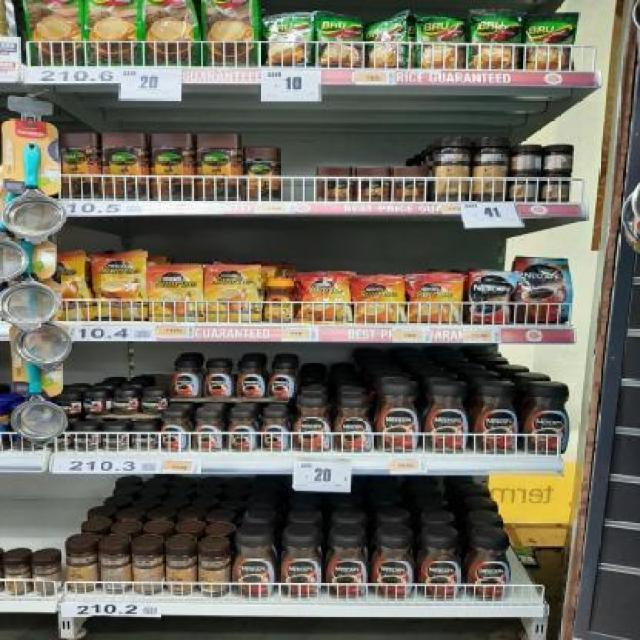Coffee: (92, 254, 146, 320), (519, 259, 570, 324), (422, 386, 468, 452), (474, 387, 518, 454), (150, 265, 202, 321), (376, 385, 420, 451), (526, 385, 568, 454), (209, 265, 260, 321), (465, 538, 512, 598), (279, 537, 322, 600), (418, 538, 462, 597), (355, 278, 408, 325), (235, 537, 276, 596), (328, 538, 368, 597), (375, 538, 414, 598), (467, 270, 512, 322), (299, 273, 346, 322), (413, 278, 462, 324), (335, 397, 374, 452), (295, 399, 331, 450), (262, 281, 294, 322), (192, 411, 223, 452), (227, 411, 258, 451), (172, 359, 200, 398), (262, 411, 290, 450), (159, 412, 186, 452), (205, 360, 232, 398), (237, 363, 264, 400), (268, 363, 295, 399), (70, 426, 98, 452), (102, 425, 130, 450), (130, 425, 158, 450), (82, 392, 111, 416), (112, 390, 138, 416), (141, 389, 165, 413)
